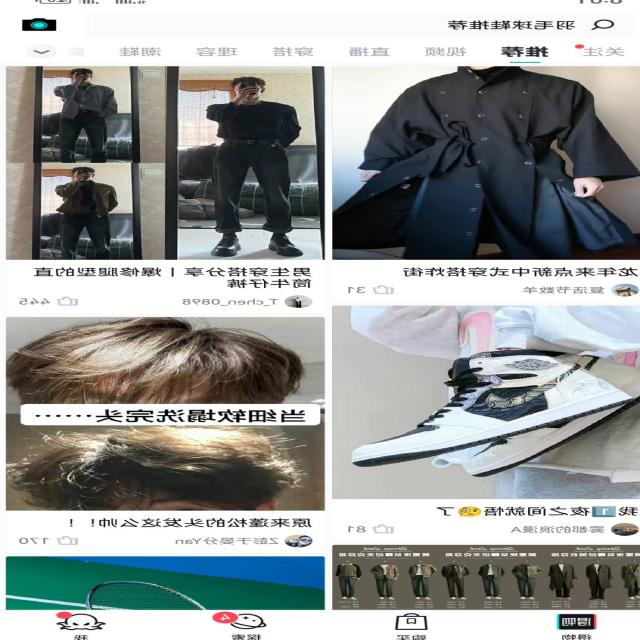Icon: (192, 612, 279, 636), (27, 612, 114, 634), (373, 610, 449, 634), (5, 10, 68, 37), (557, 609, 601, 640)
SearchBar: (79, 9, 640, 37)
